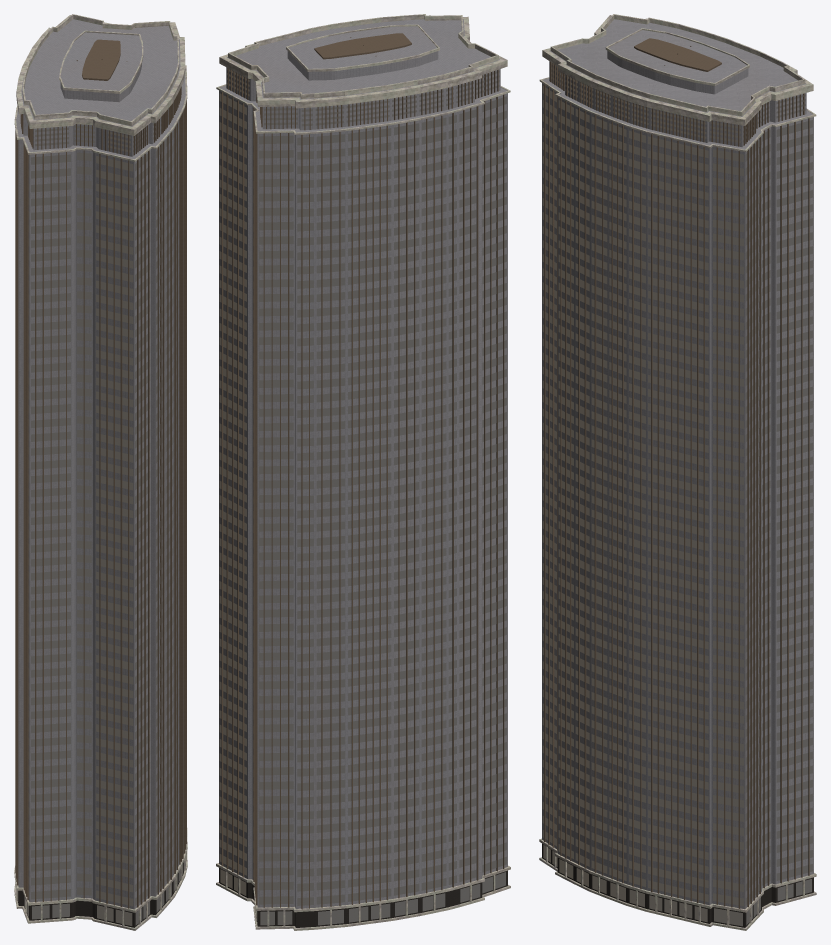
The model's file is tour-montparnasse.glb.
3 renders of one model, left to right at view 1: azimuth 30°, elevation 25°; view 2: azimuth 150°, elevation 25°; view 3: azimuth 270°, elevation 25°, orthographic. The views are drawn at different scales.
Visible parts, largest first — view 1: roof, window, metal, trim, stone; view 2: roof, window, metal, trim, stone; view 3: roof, window, metal, trim, stone.
Part boxes in pixels (left/top/right/bottom): roof: left=16, top=19, right=185, bottom=909; window: left=17, top=101, right=184, bottom=925; metal: left=15, top=39, right=186, bottom=908; trim: left=14, top=14, right=187, bottom=930; stone: left=17, top=862, right=184, bottom=927; roof: left=219, top=19, right=507, bottom=908; window: left=219, top=68, right=506, bottom=925; metal: left=221, top=33, right=504, bottom=909; trim: left=216, top=14, right=510, bottom=930; stone: left=219, top=868, right=507, bottom=927; roof: left=542, top=19, right=813, bottom=909; window: left=542, top=62, right=812, bottom=926; metal: left=544, top=38, right=809, bottom=908; trim: left=539, top=14, right=816, bottom=930; stone: left=542, top=843, right=813, bottom=927.
Size of the model in its own units: 58.6 by 210 by 64.09.
Materials: 5 (5 with a texture image).
